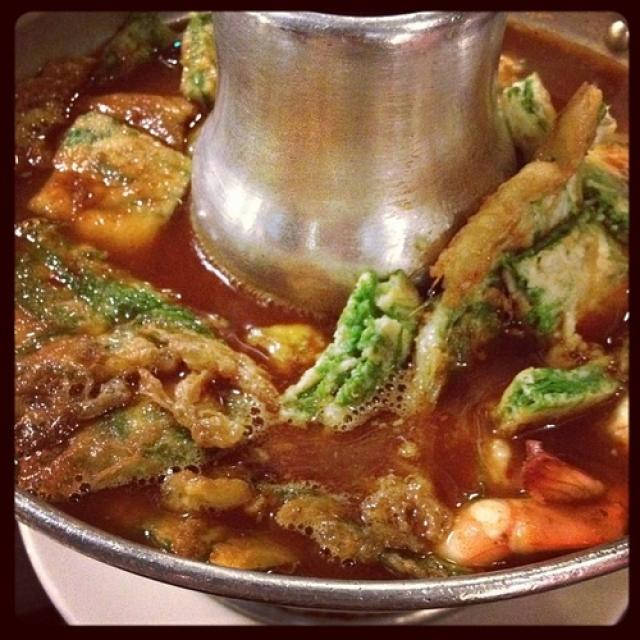汤锅炖物: (32, 34, 617, 594)
